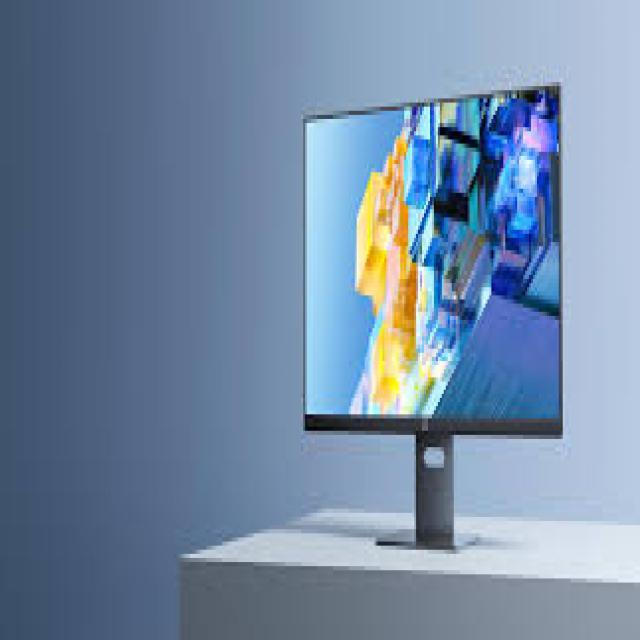monitor: (300, 109, 567, 459)
